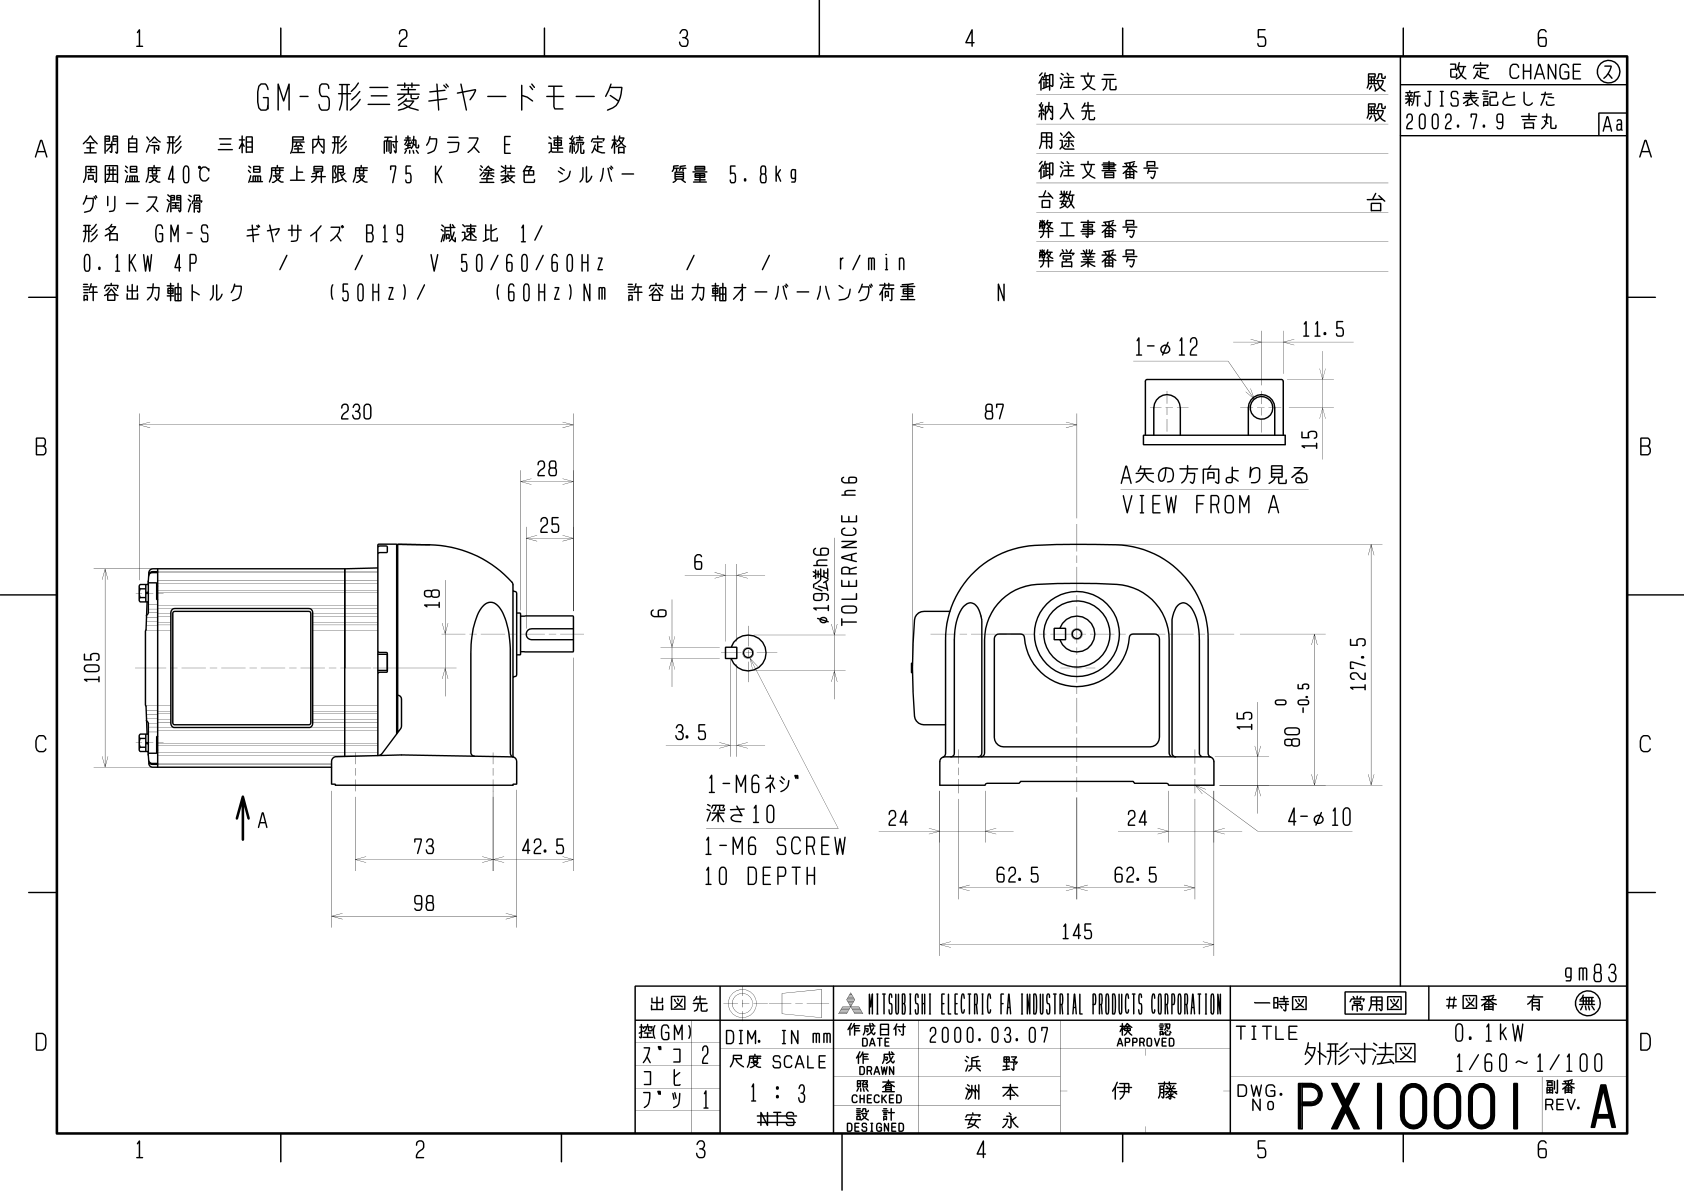GM_S_屋内＿三相_脚: (67, 302, 1389, 962)
